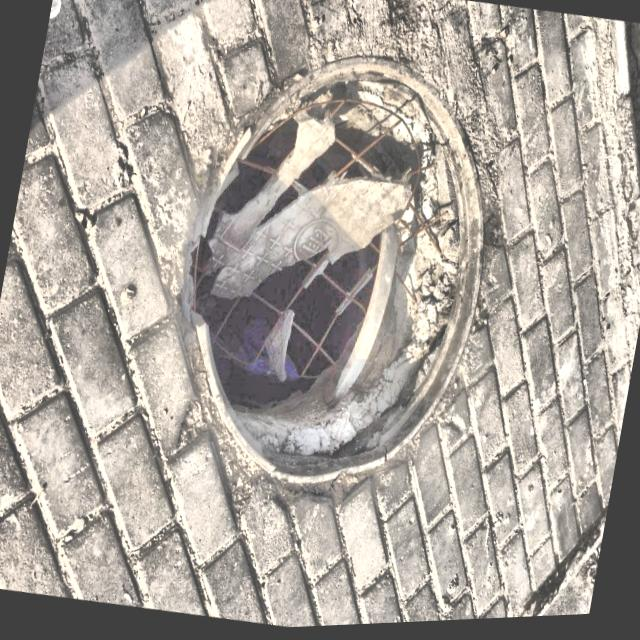open_manhole: (176, 58, 482, 483)
